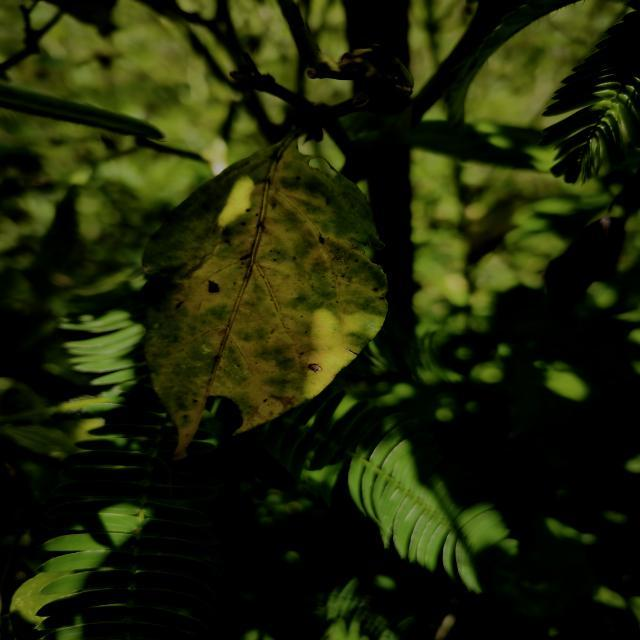Virus Kuning: (138, 124, 390, 462)
